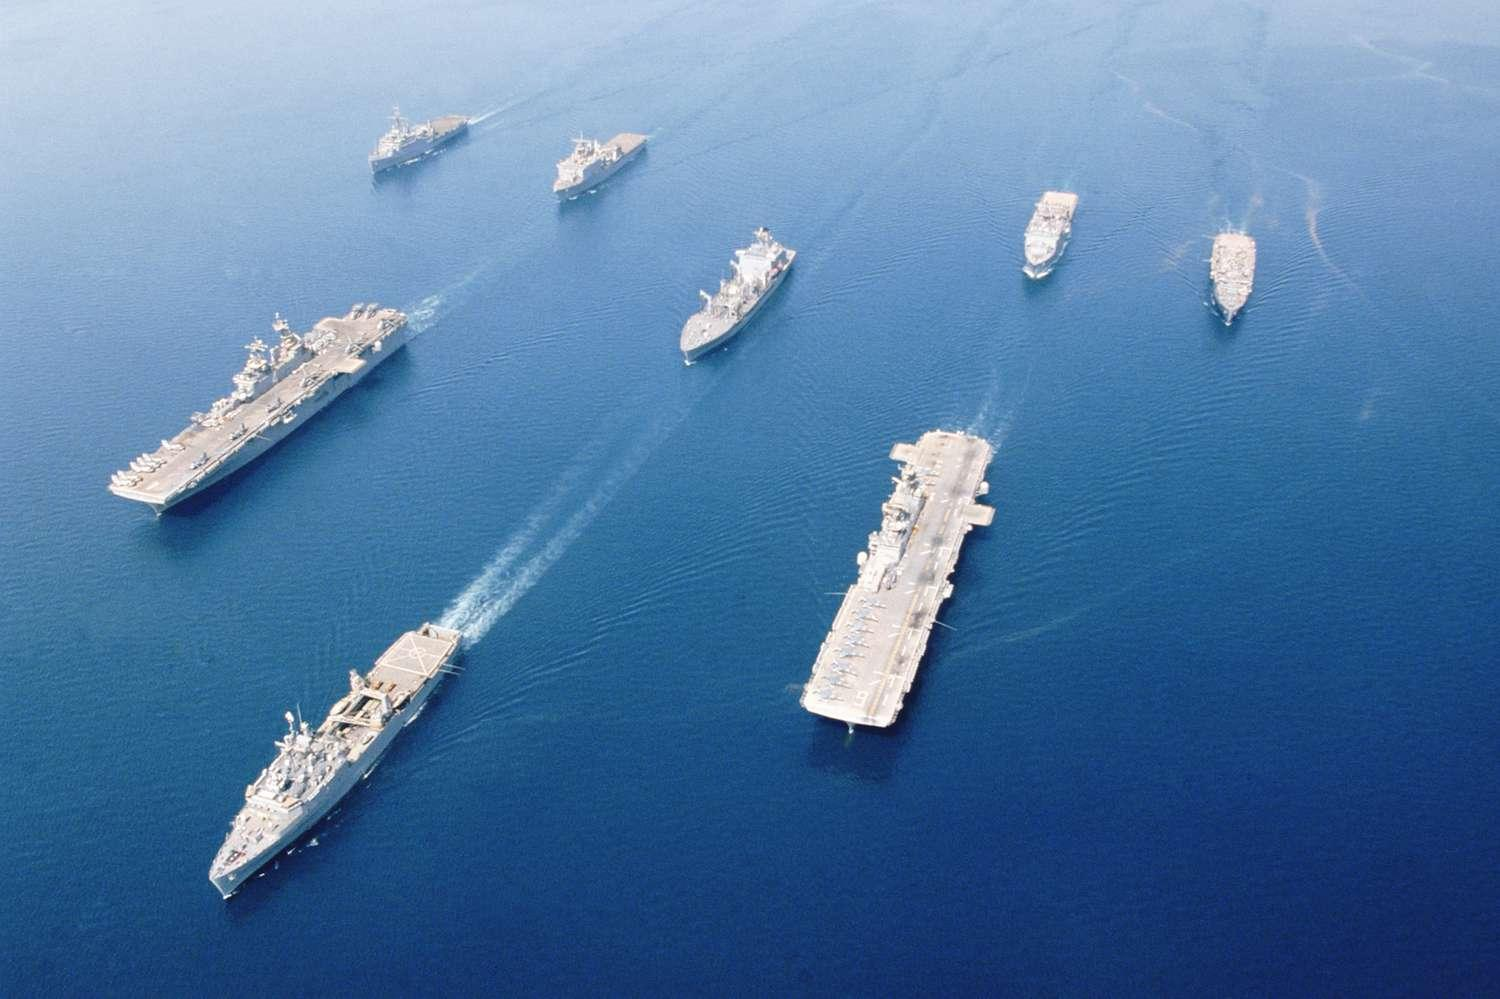Ship: (210, 622, 491, 892), (103, 293, 425, 526), (808, 423, 1005, 726), (672, 217, 810, 360), (552, 117, 651, 202), (370, 98, 470, 182), (1017, 167, 1080, 290), (1208, 210, 1264, 332)
